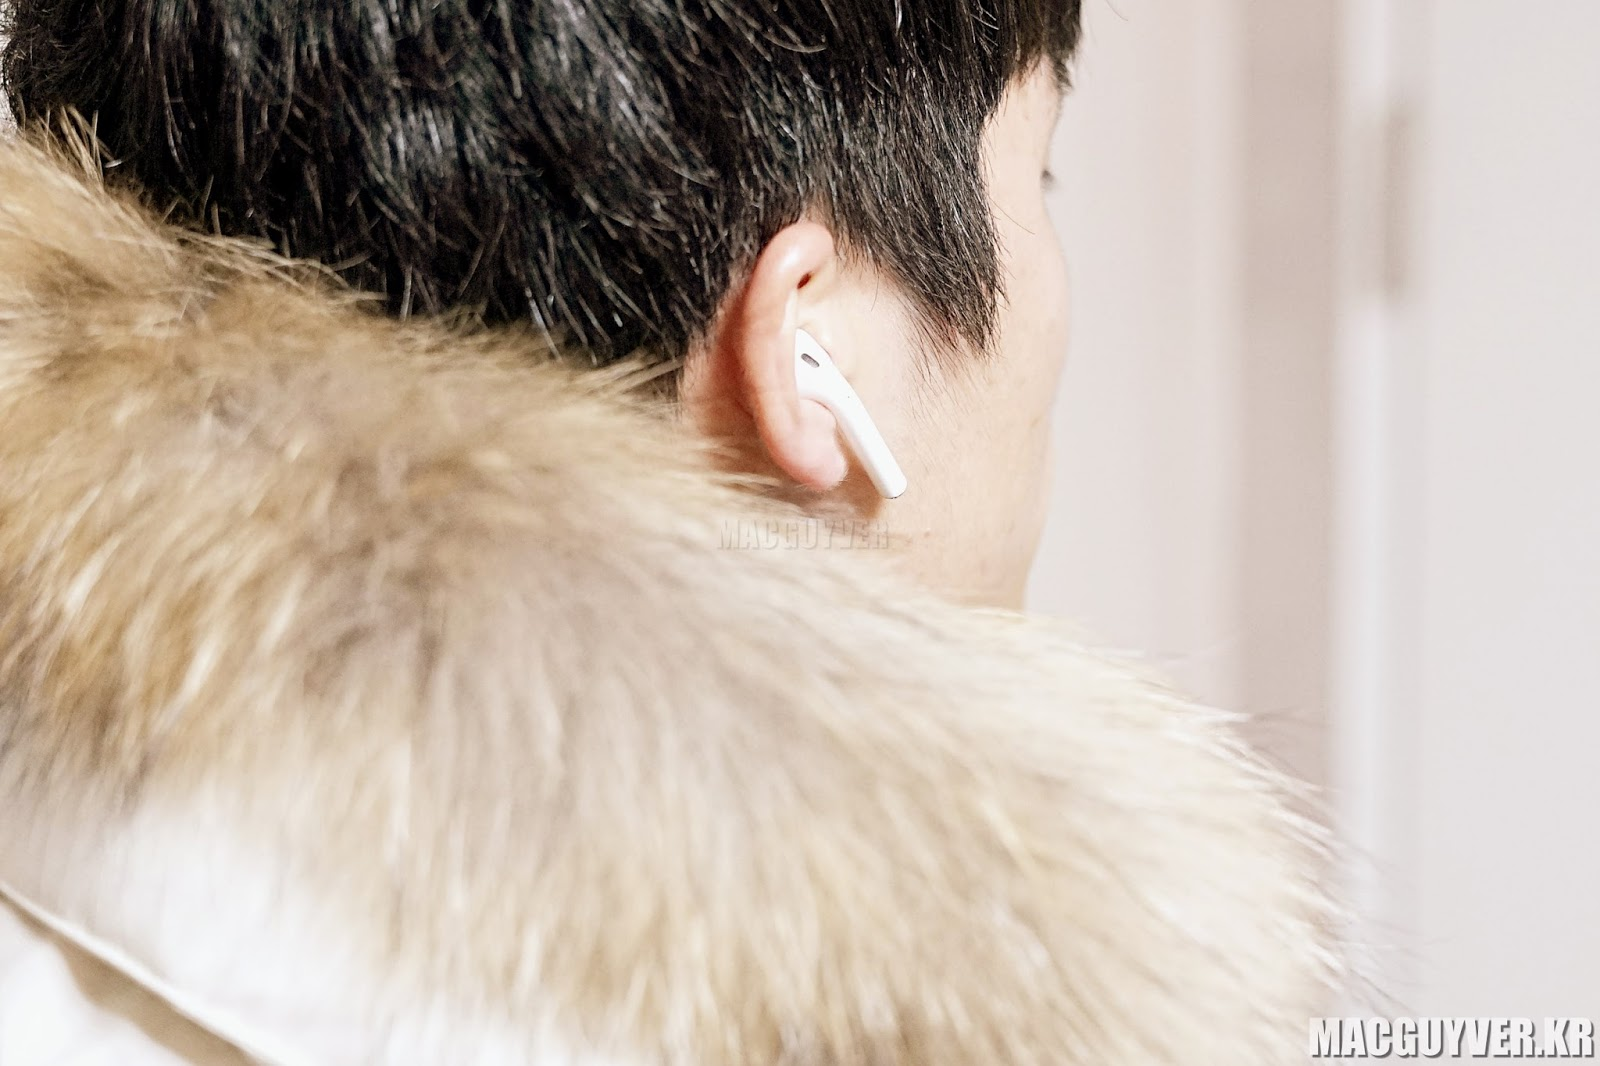earphone: (745, 224, 910, 500)
